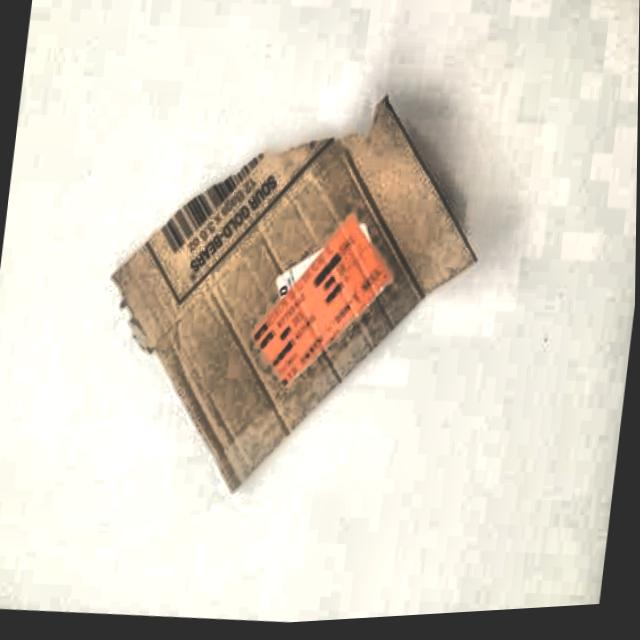Cardbox: (70, 34, 512, 547)
